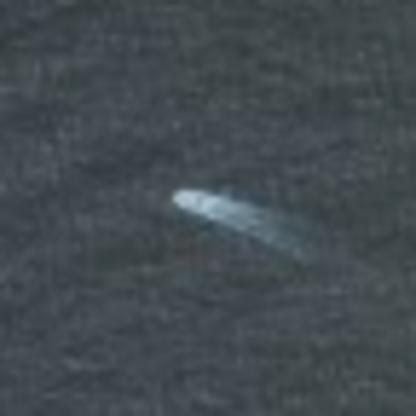ship: (154, 178, 204, 218)
